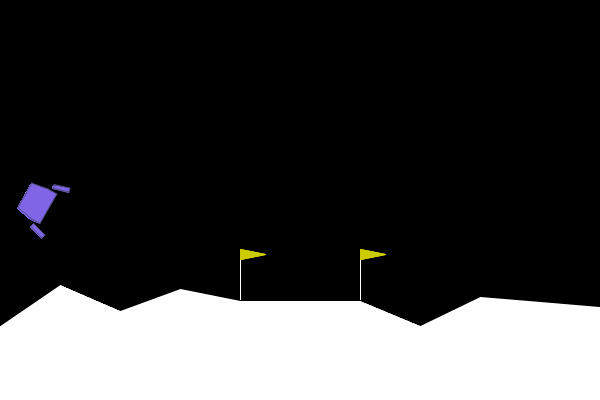lander: (8, 169, 72, 241)
